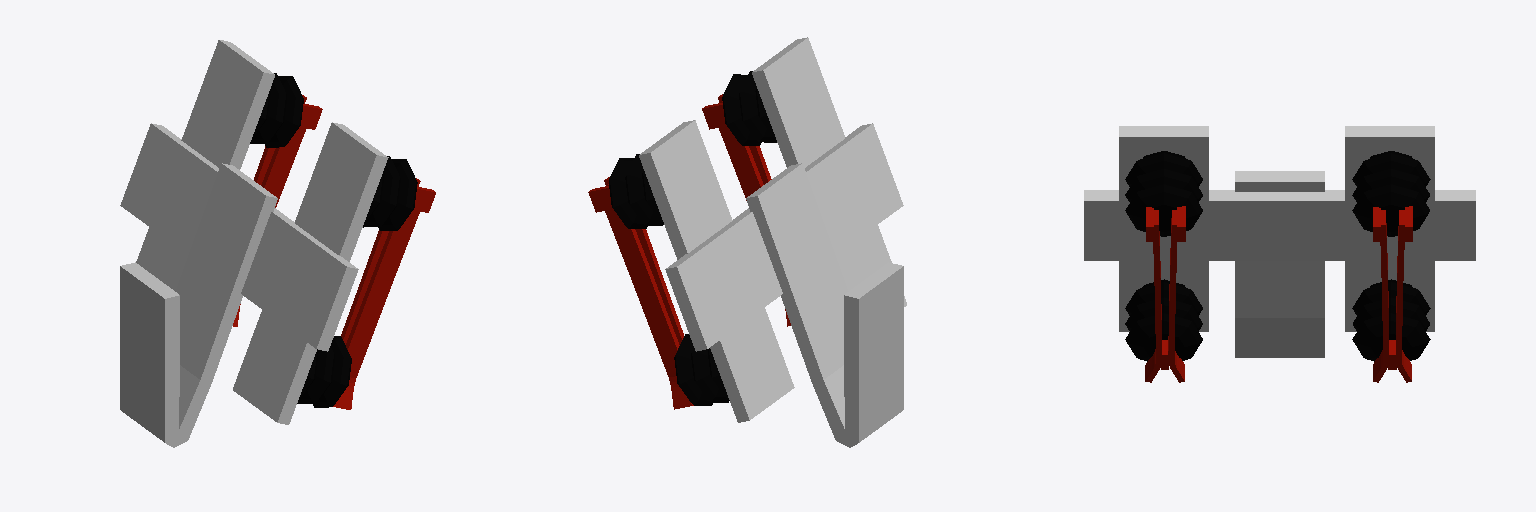
File: switch.obj
3 renders of one model, left to right at view 1: azimuth 30°, elevation 25°; view 2: azimuth 150°, elevation 25°; view 3: azimuth 270°, elevation 25°, orthographic.
Visible parts, largest first — view 1: Circle.002; view 2: Circle.002; view 3: Circle.002.
Part boxes in pixels (left/top/right/bottom): Circle.002: left=120, top=40, right=435, bottom=447; Circle.002: left=588, top=37, right=906, bottom=447; Circle.002: left=1084, top=126, right=1475, bottom=382.
Size of the model in its own units: 0.267 by 0.3373 by 0.4.